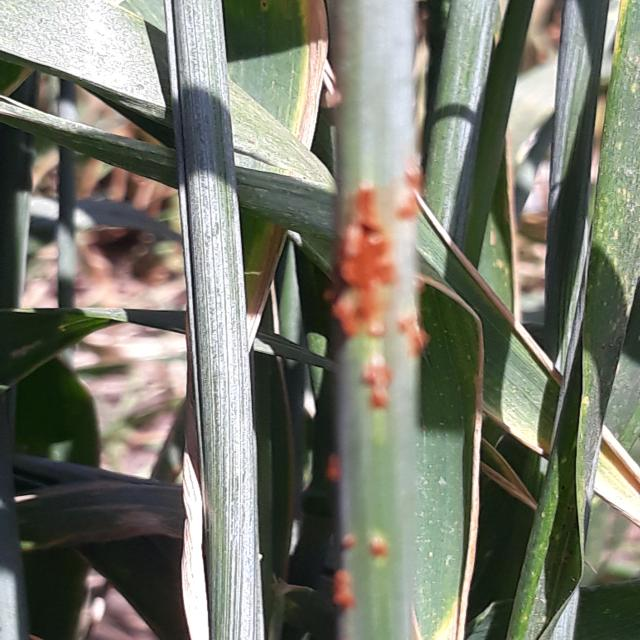black_stem_rust: (262, 0, 483, 640)
